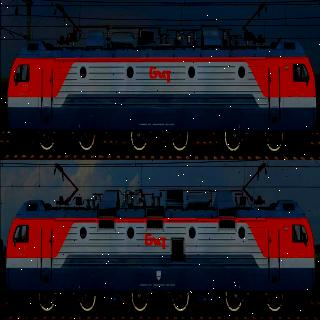poezd: (8, 36, 316, 150), (5, 198, 315, 308)
